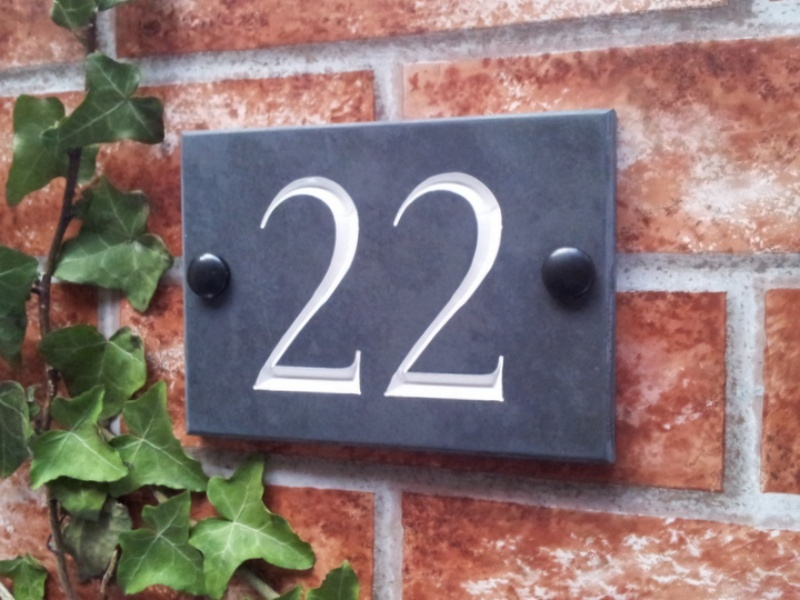text: (273, 169, 288, 404), (289, 169, 304, 404), (305, 169, 320, 404), (321, 169, 336, 404), (337, 169, 352, 404), (353, 169, 368, 404), (369, 169, 384, 404), (385, 169, 400, 404), (401, 169, 416, 404), (417, 169, 432, 404), (433, 169, 448, 404), (449, 169, 464, 404), (465, 169, 480, 404), (481, 169, 496, 404), (497, 169, 512, 404), (263, 169, 272, 404), (513, 169, 514, 404)
